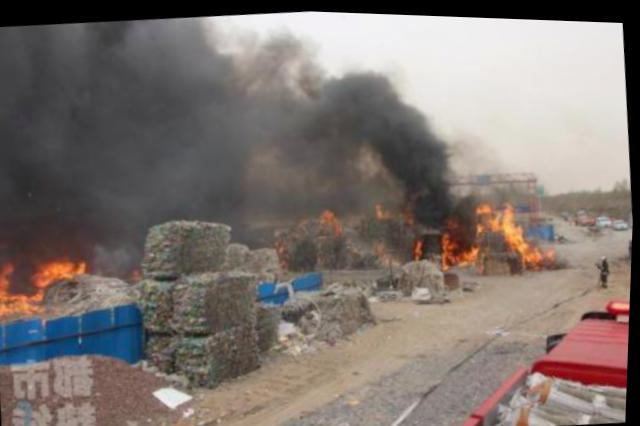fire: (36, 253, 92, 283), (0, 284, 47, 319), (0, 259, 21, 291), (445, 229, 464, 264), (503, 197, 520, 228), (526, 234, 548, 257), (464, 239, 485, 261), (482, 208, 506, 226), (508, 221, 528, 242), (415, 230, 429, 258), (480, 198, 496, 209)
